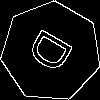D: (26, 26, 83, 81)
